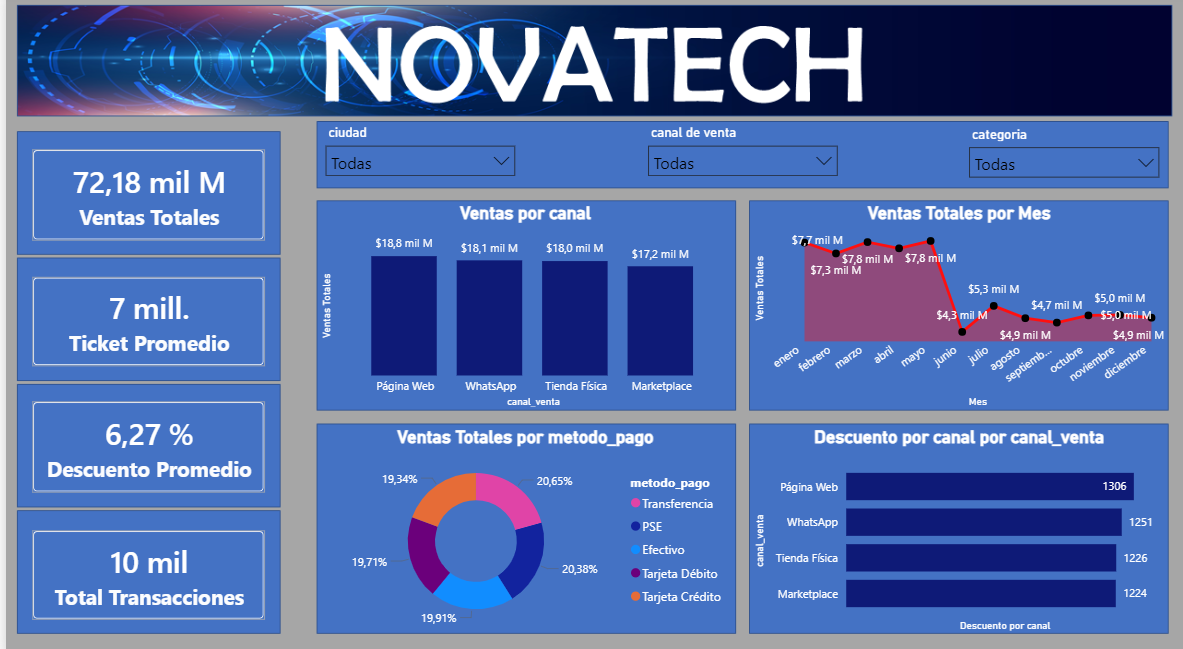

What the dashboard file says about the page in this screenshot:
{"tool":"powerbi","page":{"name":"💰 Rentabilidad","canvas":[1280,720],"ordinal":3},"visuals":[{"type":"cardVisual","fields":{"Data":["Medidas.Ventas Totales"]},"box":[11.2,150.6,286.2,133.8],"z":0},{"type":"cardVisual","fields":{"Data":["Medidas.Total Transacciones"]},"box":[11.2,563.8,286.2,131.2],"z":1},{"type":"cardVisual","fields":{"Data":["Medidas.Descuento Promedio"]},"box":[11.2,425,286.2,133.8],"z":2},{"type":"cardVisual","fields":{"Data":["Medidas.Ticket Promedio"]},"box":[11.2,288.8,286.2,131.9],"z":3},{"type":"donutChart","fields":{"Category":["ventas.metodo_pago"],"Y":["Medidas.Ventas Totales"]},"box":[337.5,468.1,453.1,226.9],"z":4},{"type":"columnChart","title":"Ventas por canal","fields":{"Category":["ventas.canal_venta"],"Y":["Medidas.Ventas Totales"]},"box":[337.5,226.9,453.1,226.2],"z":5},{"type":"lineChart","fields":{"Category":["Calendario.Mes"],"Y":["Medidas.Ventas Totales"]},"box":[806.9,226.9,453.8,226.2],"z":6},{"type":"clusteredBarChart","fields":{"Y":["Medidas.Descuento por canal"],"Category":["ventas.canal_venta"]},"box":[806.9,468.1,453.8,226.9],"z":7},{"type":"slicer","fields":{"Values":["clientes.ciudad"]},"box":[336.7,136.9,225,70],"z":8},{"type":"slicer","fields":{"Values":["ventas.canal_venta"]},"box":[685.6,137.4,225,70],"z":9},{"type":"slicer","fields":{"Values":["productos.categoria"]},"box":[1034.5,138.3,226.1,69.9],"z":10}]}

Visuals, with their boxes in screenshot pixels (x1, y1, x2, y2), scaled from the page's 1280x720 canvas onto the 1183x649 screenshot:
cardVisual - Medidas.Ventas Totales: [left=10, top=136, right=275, bottom=256]
cardVisual - Medidas.Total Transacciones: [left=10, top=508, right=275, bottom=626]
cardVisual - Medidas.Descuento Promedio: [left=10, top=383, right=275, bottom=504]
cardVisual - Medidas.Ticket Promedio: [left=10, top=260, right=275, bottom=379]
donutChart - ventas.metodo_pago x Medidas.Ventas Totales: [left=312, top=422, right=731, bottom=626]
"Ventas por canal" columnChart: [left=312, top=205, right=731, bottom=408]
lineChart - Calendario.Mes x Medidas.Ventas Totales: [left=746, top=205, right=1165, bottom=408]
clusteredBarChart - Medidas.Descuento por canal x ventas.canal_venta: [left=746, top=422, right=1165, bottom=626]
slicer - clientes.ciudad: [left=311, top=123, right=519, bottom=186]
slicer - ventas.canal_venta: [left=634, top=124, right=842, bottom=187]
slicer - productos.categoria: [left=956, top=125, right=1165, bottom=188]
